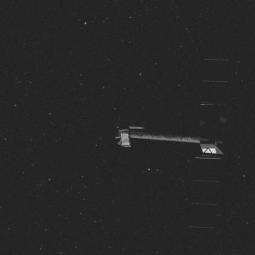xmm_newton: (116, 85, 240, 202)
